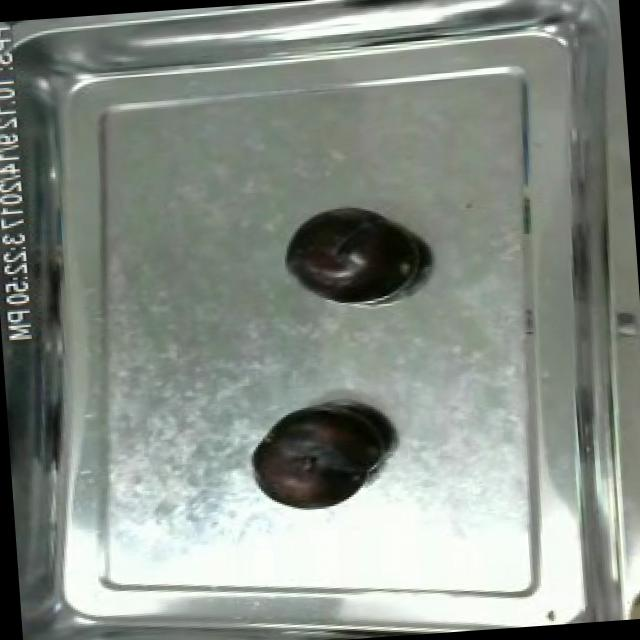Fruit: (242, 396, 392, 518), (278, 200, 420, 306), (612, 581, 640, 620)
